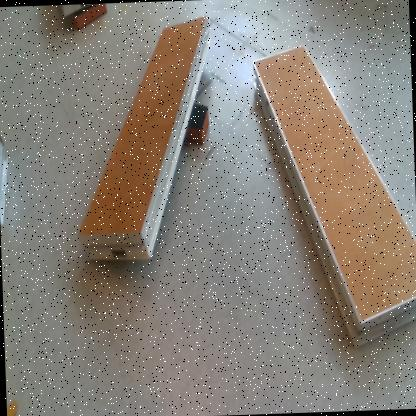Stairs: (254, 42, 416, 350), (78, 17, 211, 263), (1, 136, 11, 228), (62, 5, 93, 21)
